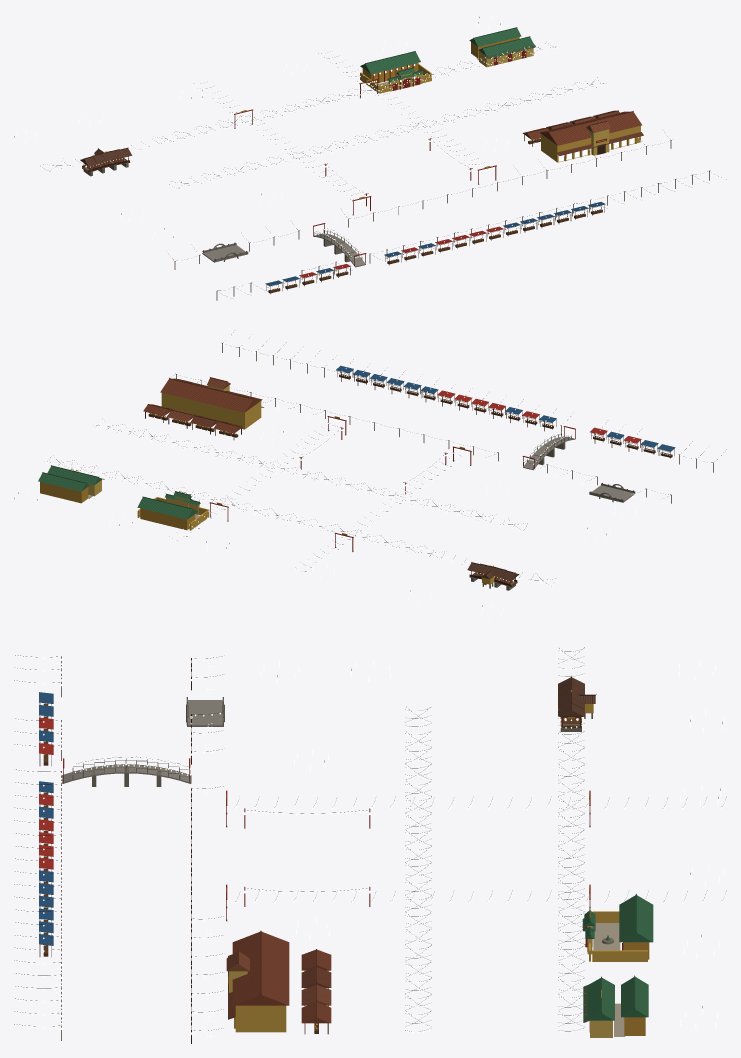
The model's file is old_town_landmarks.glb.
3 views of the same model, one above another, from view 1: azimuth 30°, elevation 25°; view 2: azimuth 150°, elevation 25°; view 3: azimuth 270°, elevation 25° (orthographic). The views are drawn at different scales.
Visible parts, largest first — view 1: OldTownLandmarks_mat0, OldTownLandmarks_LanternGlow; view 2: OldTownLandmarks_mat0, OldTownLandmarks_LanternGlow; view 3: OldTownLandmarks_mat0, OldTownLandmarks_LanternGlow.
Boxes of the visible parts, x1,y1,x2,y2 form: OldTownLandmarks_mat0: [14, 17, 721, 300]; OldTownLandmarks_LanternGlow: [14, 16, 724, 299]; OldTownLandmarks_mat0: [14, 332, 726, 606]; OldTownLandmarks_LanternGlow: [14, 331, 725, 618]; OldTownLandmarks_mat0: [14, 647, 726, 1043]; OldTownLandmarks_LanternGlow: [19, 649, 726, 1040].
Bounding box in the file's own units: 195 × 11.86 × 154.
